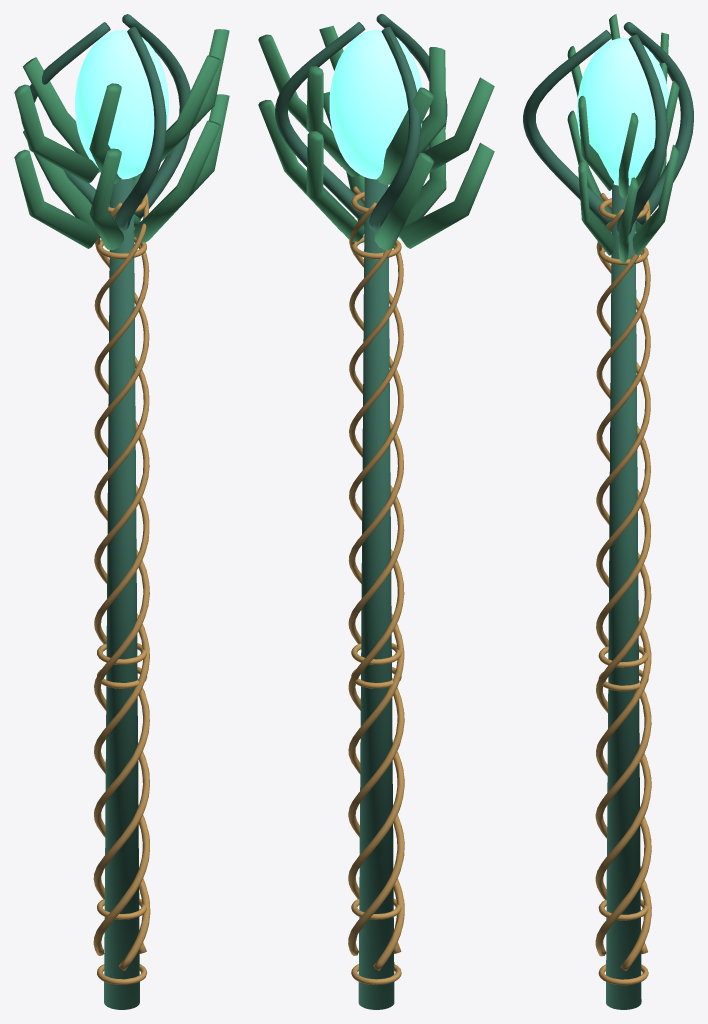
Rendered from medium.glb.
3 renders of one model, left to right at view 1: azimuth 30°, elevation 25°; view 2: azimuth 150°, elevation 25°; view 3: azimuth 270°, elevation 25°, orthographic.
Visible parts, largest first — view 1: HonGioi_Asset; view 2: HonGioi_Asset; view 3: HonGioi_Asset.
Boxes of the visible parts, x1,y1,x2,y2 form: HonGioi_Asset: (14,14,229,1009); HonGioi_Asset: (258,14,494,1009); HonGioi_Asset: (523,14,693,1009).
Size of the model in its own units: 0.7951 by 3.31 by 0.5274.
